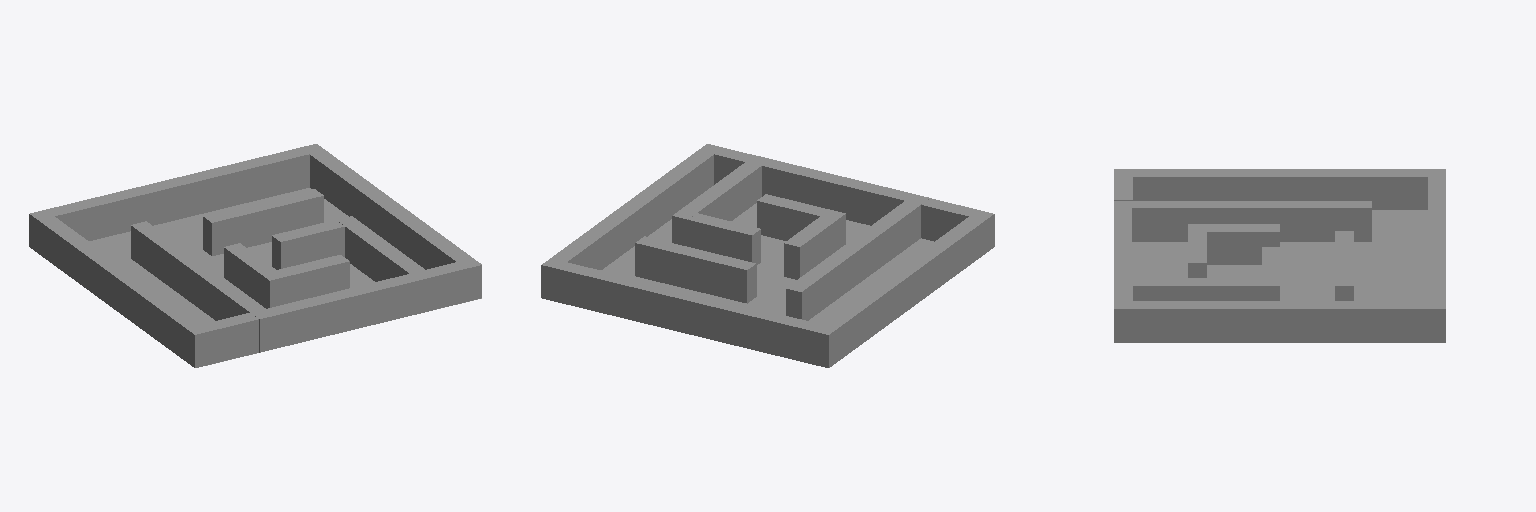
The model's file is enviroment.obj.
3 views of the same model, side by side, from view 1: azimuth 30°, elevation 25°; view 2: azimuth 150°, elevation 25°; view 3: azimuth 270°, elevation 25° (orthographic).
Visible parts, largest first — view 1: Plane.011_Plane.025; view 2: Plane.011_Plane.025; view 3: Plane.011_Plane.025.
Boxes of the visible parts, box(x1,y1,x2,y2) form: Plane.011_Plane.025: box(29, 144, 481, 367); Plane.011_Plane.025: box(541, 144, 994, 367); Plane.011_Plane.025: box(1114, 169, 1445, 342).
Size of the model in its own units: 9.02 by 1 by 9.01.